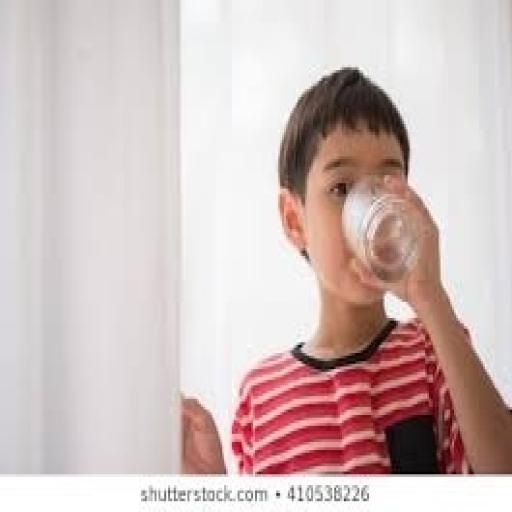drinking: (176, 15, 420, 286)
